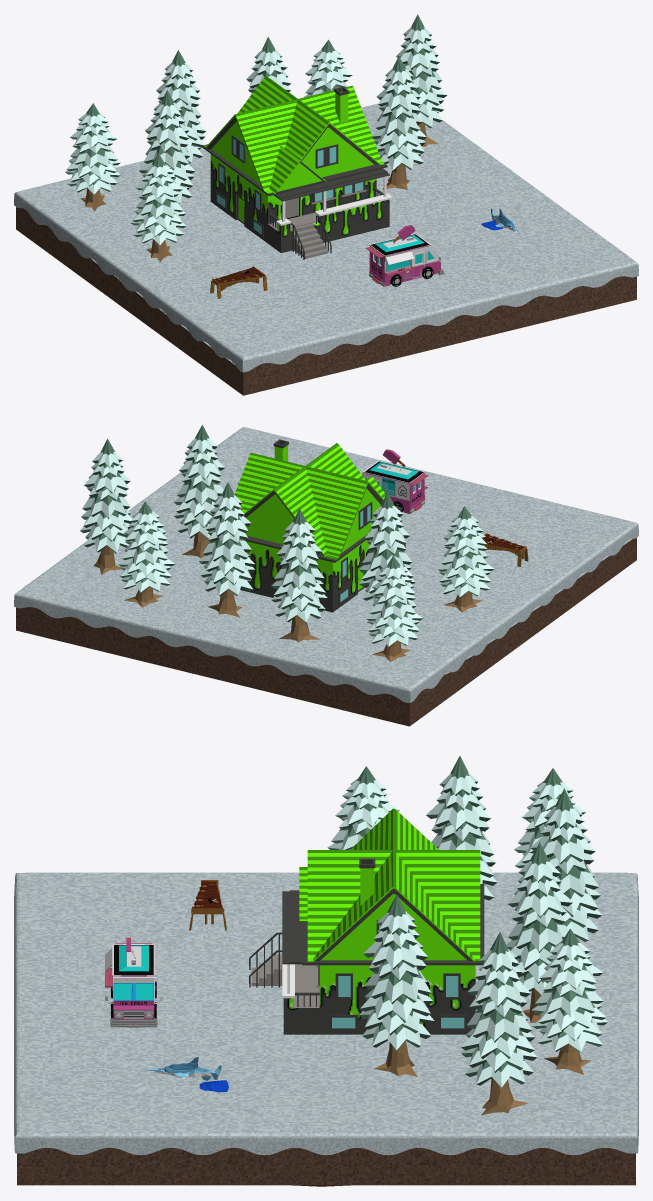
3 renders of one model, top to bottom at view 1: azimuth 30°, elevation 25°; view 2: azimuth 150°, elevation 25°; view 3: azimuth 270°, elevation 25°, orthographic. The views are drawn at different scales.
Visible parts, largest first — view 1: Cube.003, Cube.754, VEHICLES_ICE_CREAM_TRUCK, OBJRANDOM_MARIMBA; view 2: Cube.003, Cube.754, VEHICLES_ICE_CREAM_TRUCK, OBJRANDOM_MARIMBA; view 3: Cube.003, Cube.754, VEHICLES_ICE_CREAM_TRUCK, ANIMAL_PEZ_ESPADA, OBJRANDOM_MARIMBA.
Part boxes in pixels (left/top/right/bottom): Cube.003: left=14, top=14, right=638, bottom=395; Cube.754: left=202, top=76, right=392, bottom=259; VEHICLES_ICE_CREAM_TRUCK: left=366, top=225, right=444, bottom=286; OBJRANDOM_MARIMBA: left=210, top=266, right=267, bottom=298; Cube.003: left=14, top=425, right=638, bottom=726; Cube.754: left=234, top=439, right=405, bottom=612; VEHICLES_ICE_CREAM_TRUCK: left=362, top=449, right=428, bottom=513; OBJRANDOM_MARIMBA: left=483, top=533, right=528, bottom=566; Cube.003: left=14, top=756, right=638, bottom=1185; Cube.754: left=249, top=808, right=484, bottom=1034; VEHICLES_ICE_CREAM_TRUCK: left=105, top=937, right=162, bottom=1027; ANIMAL_PEZ_ESPADA: left=142, top=1057, right=228, bottom=1092; OBJRANDOM_MARIMBA: left=189, top=880, right=226, bottom=930.
Size of the model in its own units: 4040 by 1758 by 4040.
44 materials, 4 textured.
